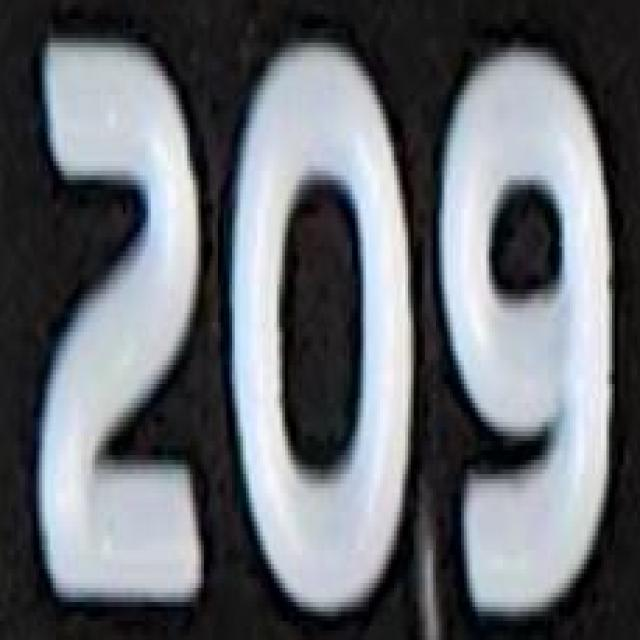character: (222, 33, 421, 623), (436, 36, 620, 625), (30, 33, 214, 614)
